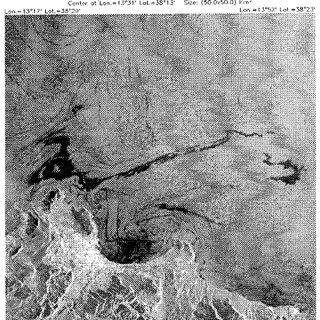anomaly: (12, 120, 313, 265)
